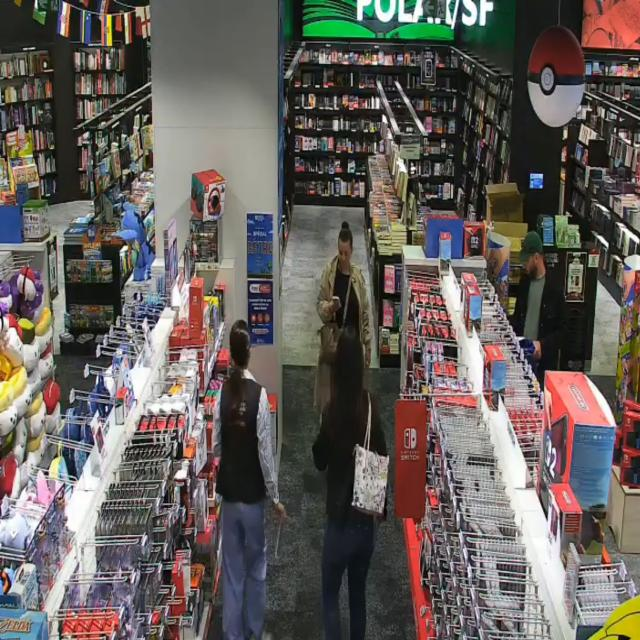bags: (352, 398, 389, 515), (319, 322, 342, 364)
hands: (273, 502, 286, 519), (330, 298, 341, 313), (533, 341, 541, 359), (366, 347, 371, 367)
person: (313, 326, 386, 639), (214, 320, 284, 639), (512, 232, 568, 385), (317, 222, 371, 366)
